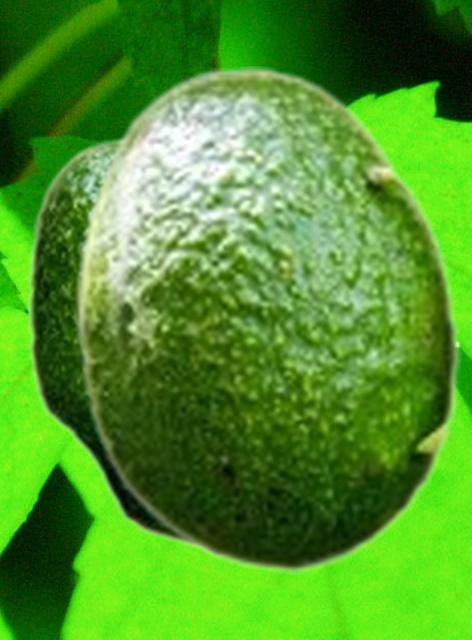avocado: (72, 66, 461, 573), (25, 131, 200, 554)
